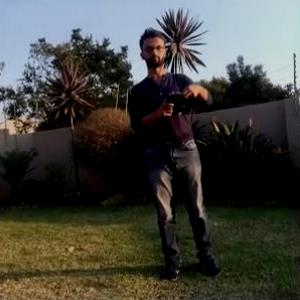follow: (127, 22, 226, 289)
